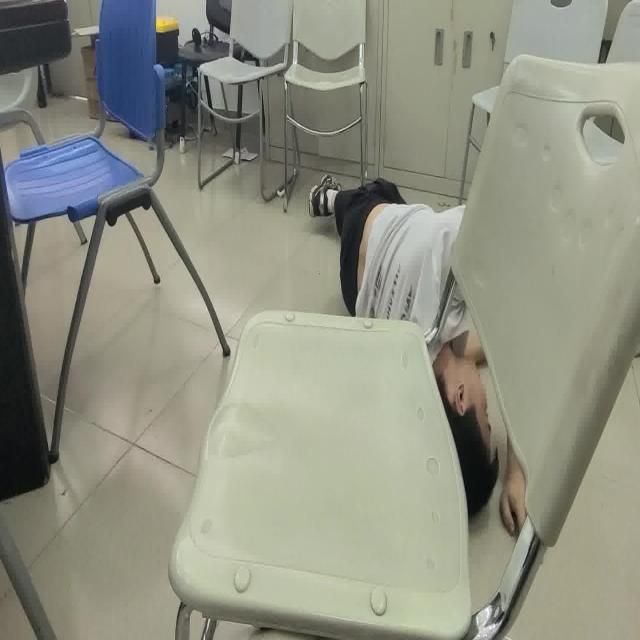Fall-Detected: (307, 168, 539, 538)
